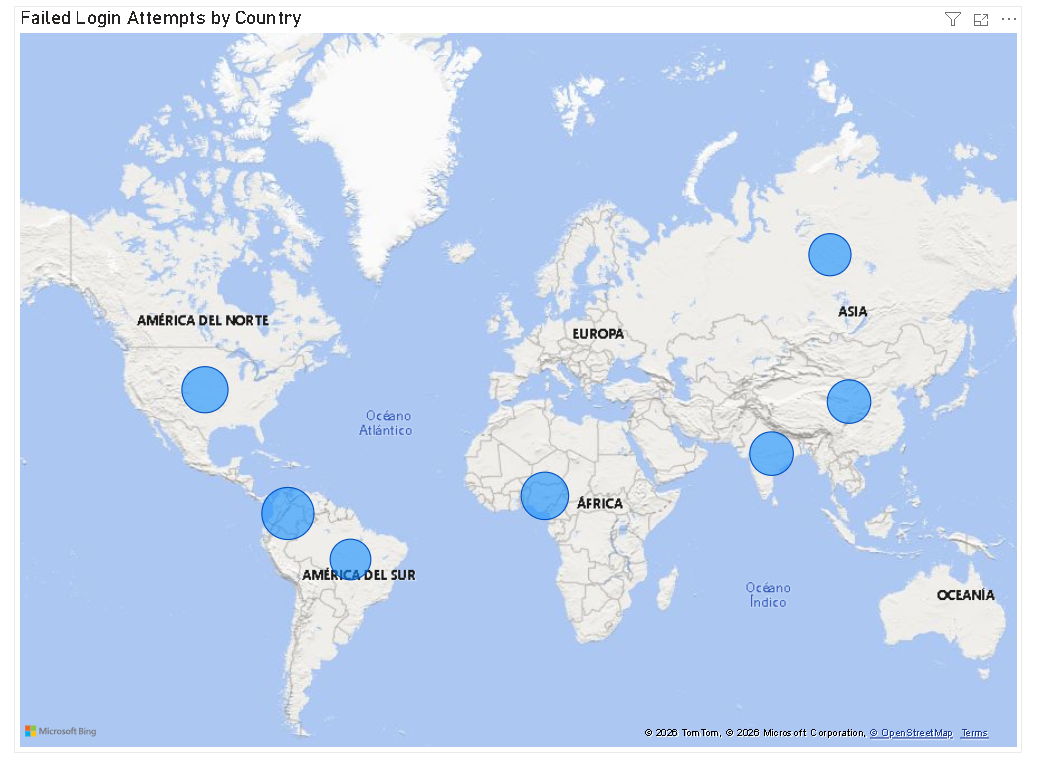

What the dashboard file says about the page in this screenshot:
{"tool":"powerbi","page":{"name":"Page 2","canvas":[1280,720],"ordinal":1},"visuals":[{"type":"map","fields":{"Category":["security_logs.Country"],"Size":["security_logs.Failed Login Attempts"]},"box":[10,0,280,280],"z":0}]}

Visuals, with their boxes on the page's 1280x720 design canvas (x1, y1, x2, y2). These are canvas units, not pixel positions in the 1054x763 screenshot, which may show the page scaled, cropped or inside an application window:
map - security_logs.Country x security_logs.Failed Login Attempts: (left=10, top=0, right=290, bottom=280)
